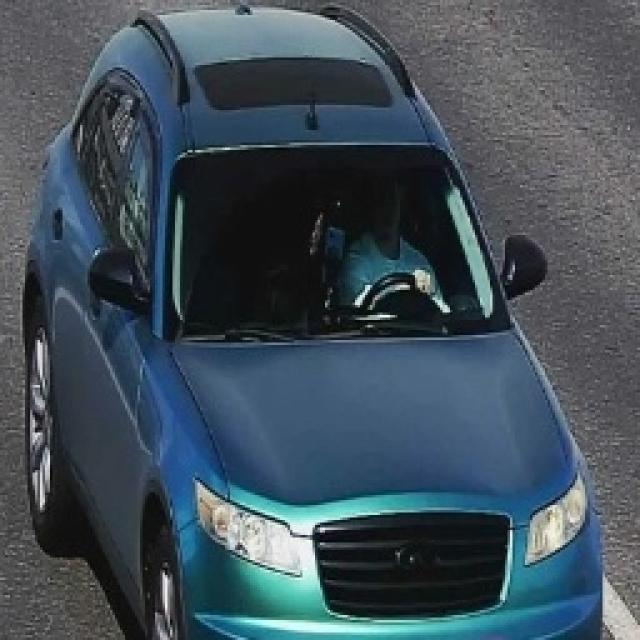windshield: (142, 130, 518, 362)
